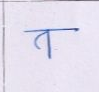aa_matra: (46, 31, 51, 59)
